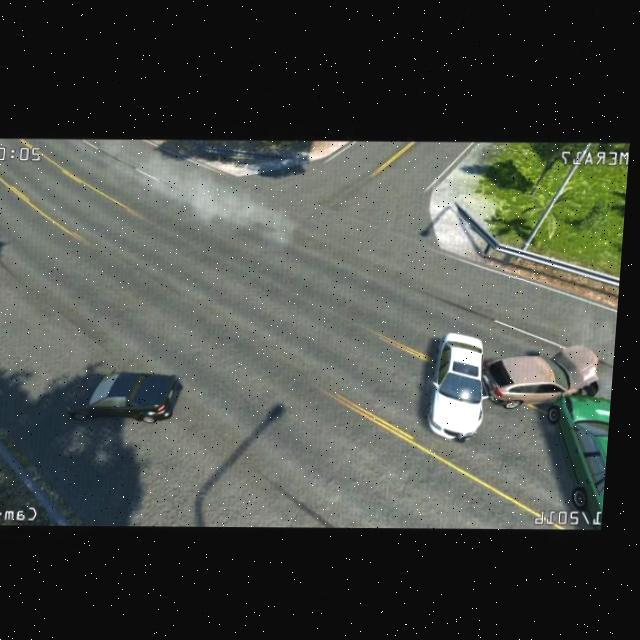multiple_accident: (387, 303, 618, 509)
normal: (62, 345, 189, 437)
